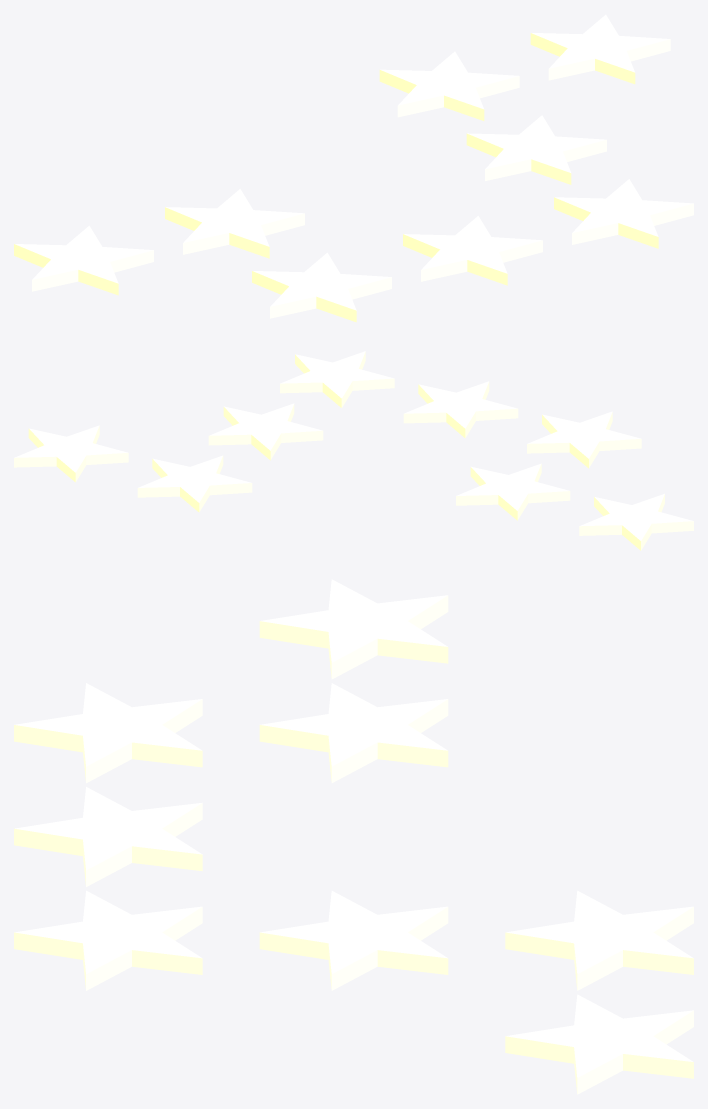
The model's file is dun_mapstars.glb.
3 views of the same model, one above another, from view 1: azimuth 30°, elevation 25°; view 2: azimuth 150°, elevation 25°; view 3: azimuth 270°, elevation 25° (orthographic). The views are drawn at different scales.
Visible parts, largest first — view 1: dun_mapstars_rune_0; view 2: dun_mapstars_rune_0; view 3: dun_mapstars_rune_0.
Part boxes in pixels (box(x1,y1,x2,y2)): dun_mapstars_rune_0: box(14, 14, 693, 322); dun_mapstars_rune_0: box(14, 351, 693, 550); dun_mapstars_rune_0: box(14, 579, 693, 1094).
Size of the model in its own units: 1.92 by 0.03 by 1.11.
